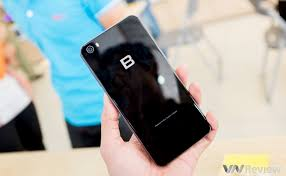bphone: (72, 12, 216, 165)
